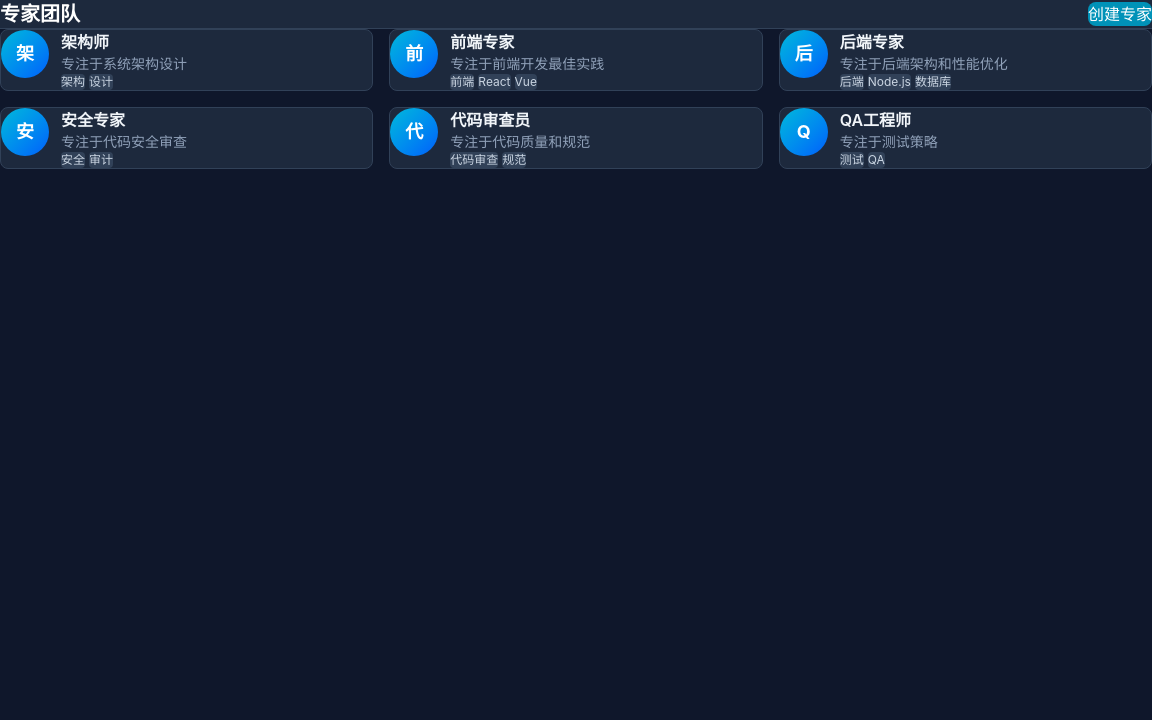
it: ExpertManager Page › 应该支持创建新专家
This screenshot has width=1152, height=720.
Click the button "创建专家".
click(1120, 14)  # box [1088,2,1151,26]
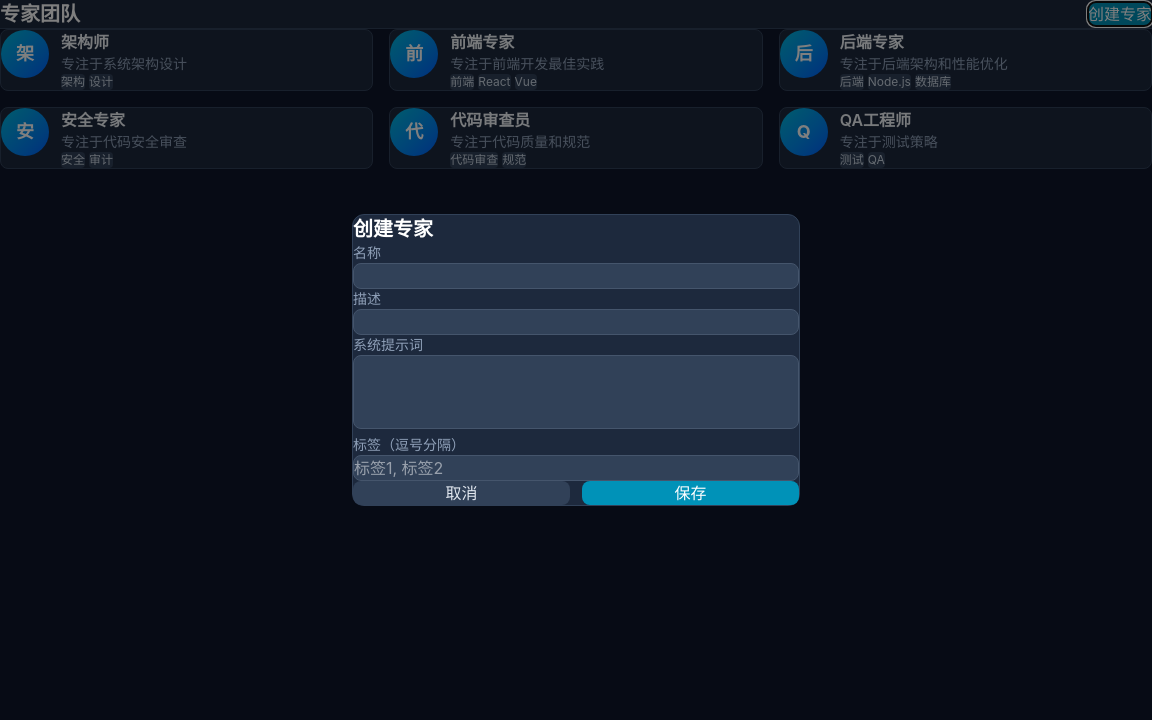
expect the heading "创建专家" is shown: met, box [353,217,433,241]
Type "新专家" into the field labelled "名称".
click(576, 276); type("新专家")  # box [353,263,799,289]
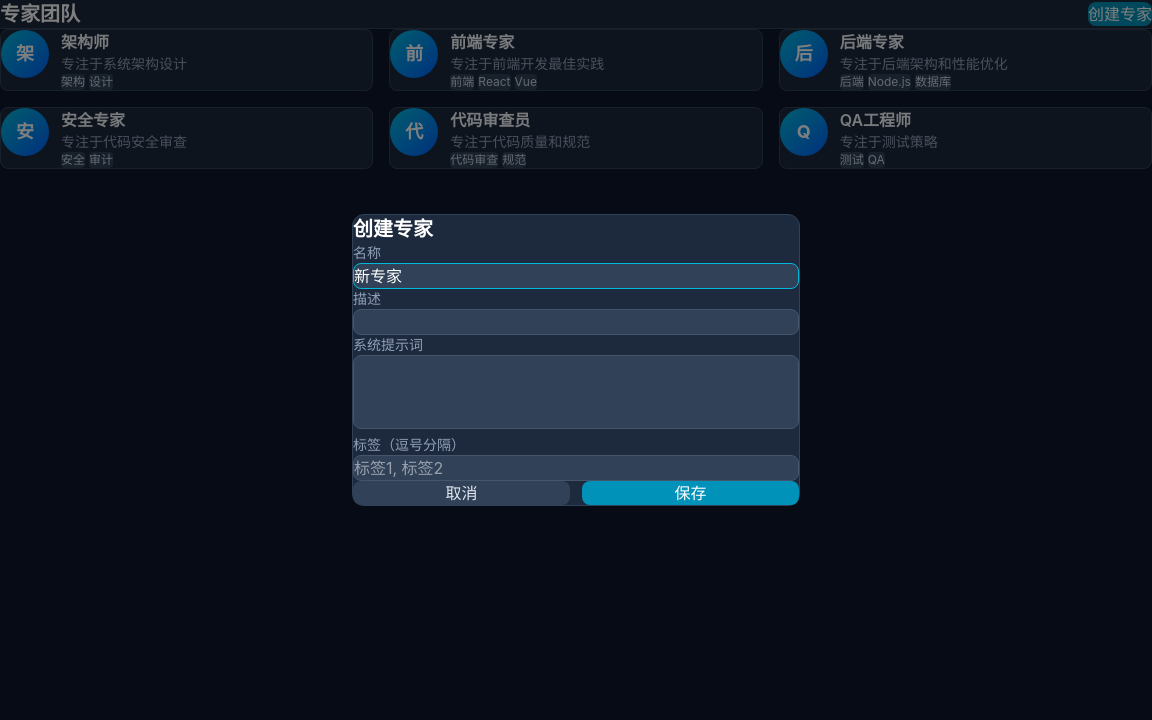
Type "测试描述" into the field labelled "描述".
click(576, 322); type("测试描述")  # box [353,309,799,335]
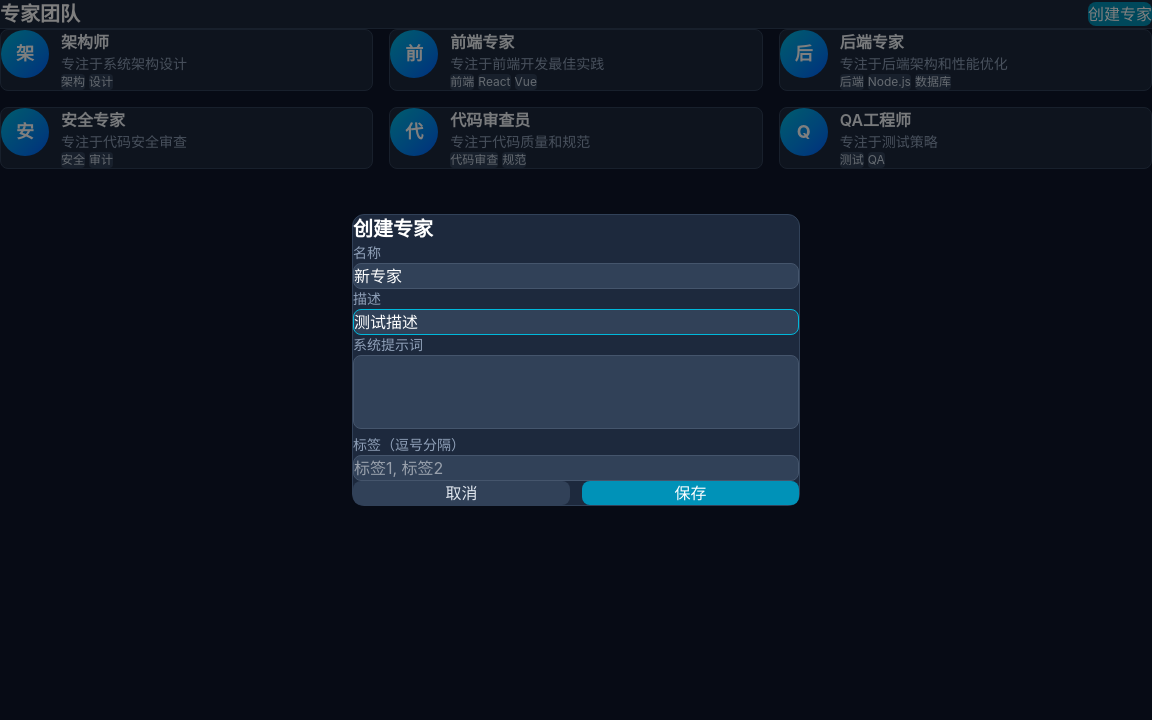
Type "你是一个测试专家" into the text box labelled "系统提示词".
click(576, 392); type("你是一个测试专家")  # box [353,355,799,429]
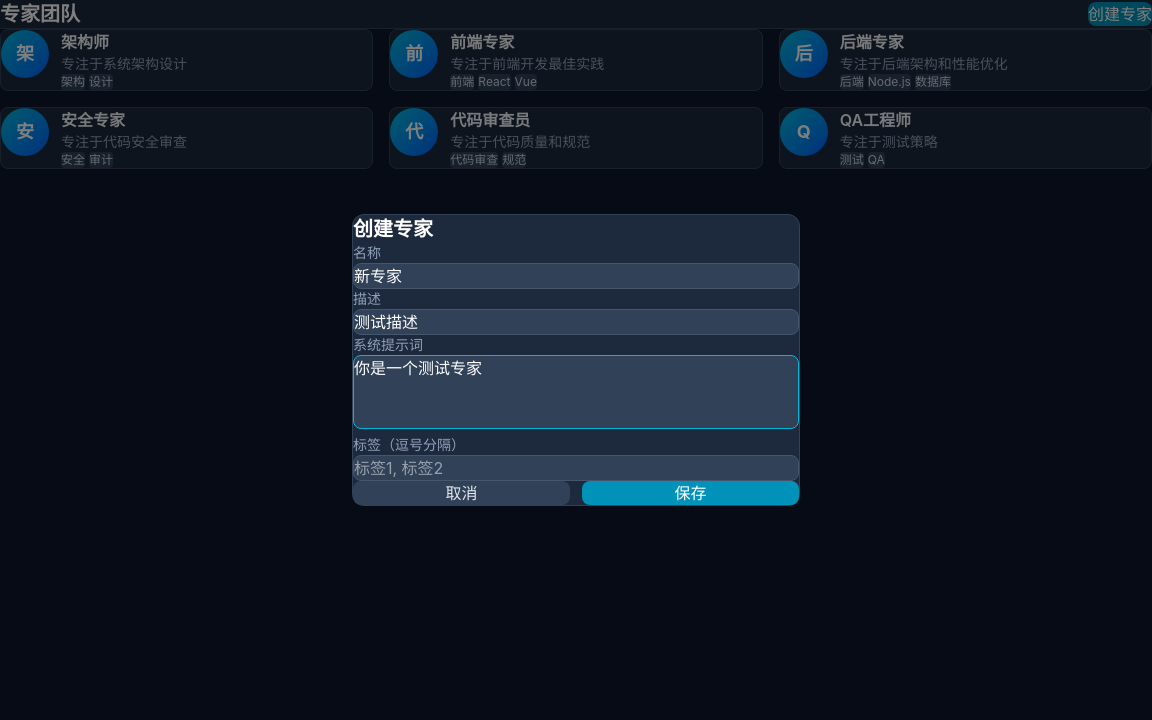
Click the button "保存".
click(690, 493)  # box [582,481,799,505]
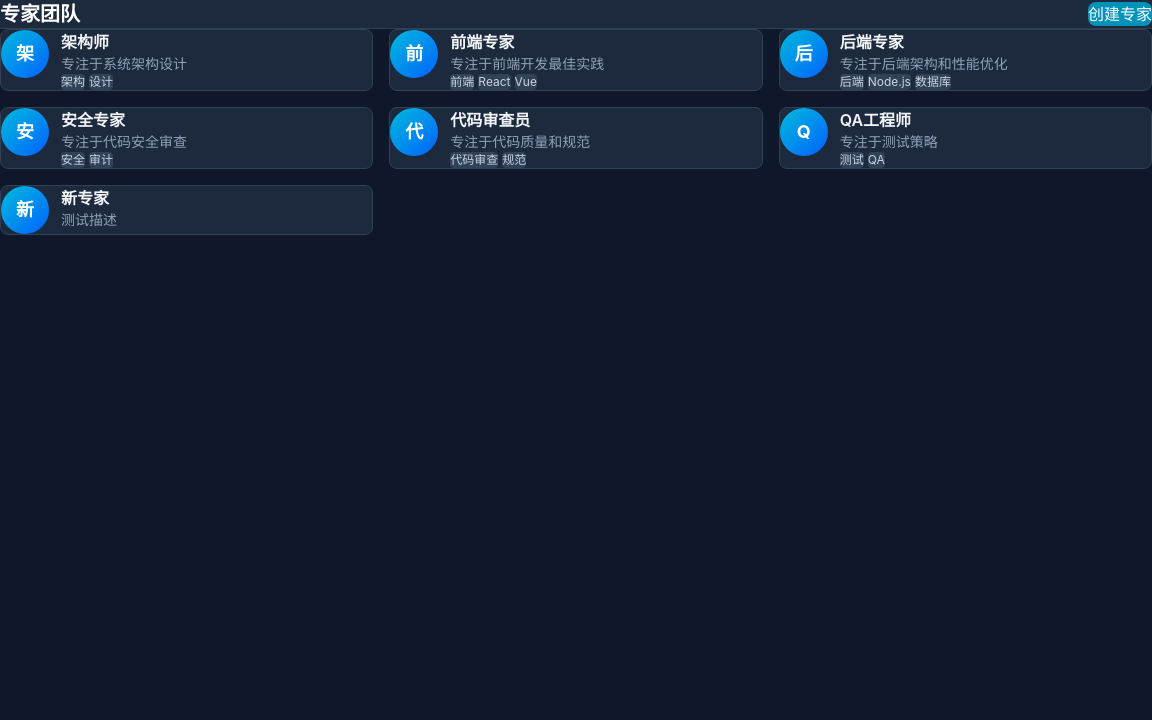
expect the heading "新专家" is shown: met, box [61,188,109,208]
